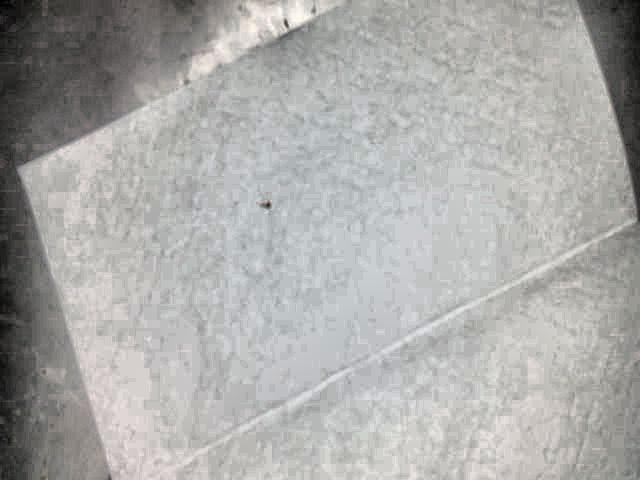Paper: (19, 2, 640, 480)
